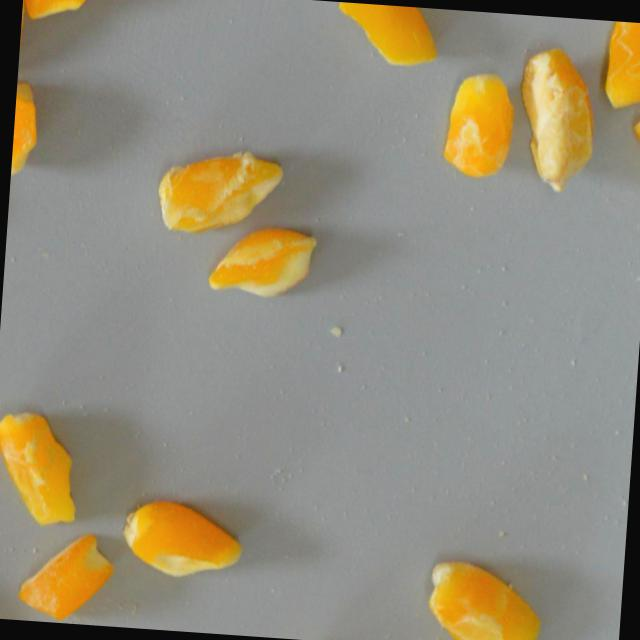dañado: (511, 41, 602, 199), (152, 140, 287, 239), (115, 493, 248, 590), (415, 548, 549, 640), (13, 523, 120, 626), (436, 68, 519, 182), (330, 0, 442, 71), (599, 19, 640, 114), (21, 0, 133, 34), (9, 78, 44, 181), (626, 96, 640, 194)
pelicula: (0, 402, 87, 533), (202, 222, 323, 307)
